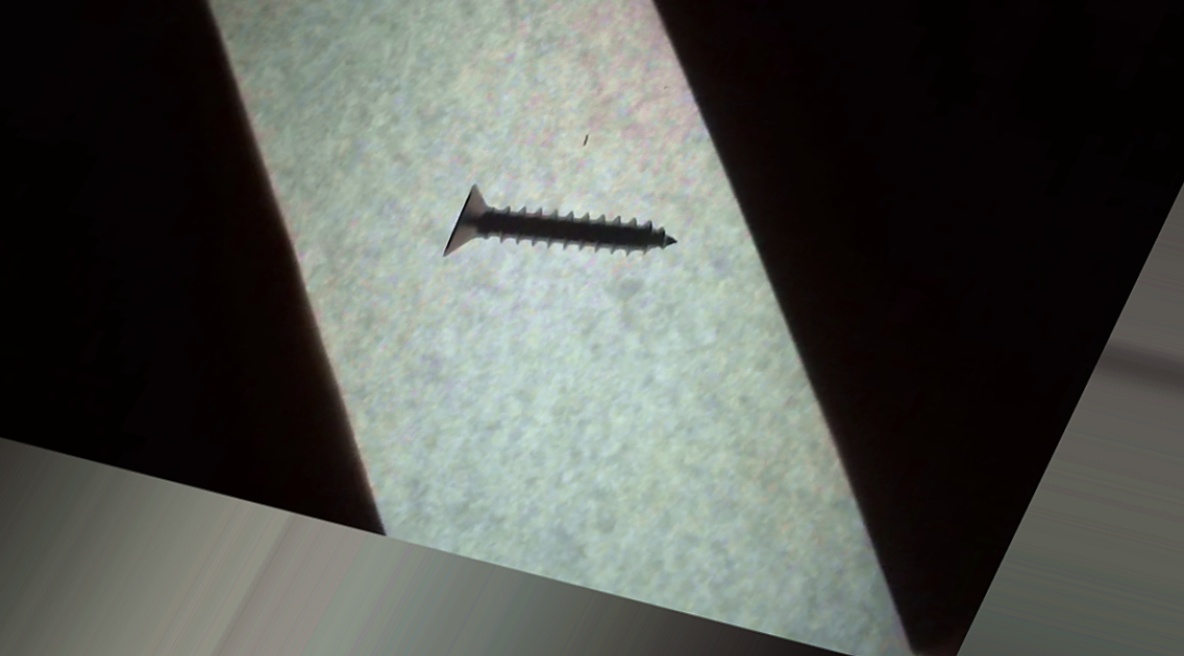S001: (411, 153, 706, 322)
